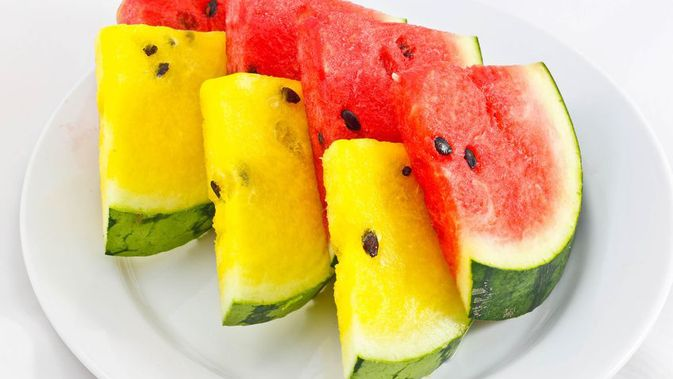Semangka: (399, 59, 599, 282), (318, 25, 433, 156), (224, 7, 319, 84)
